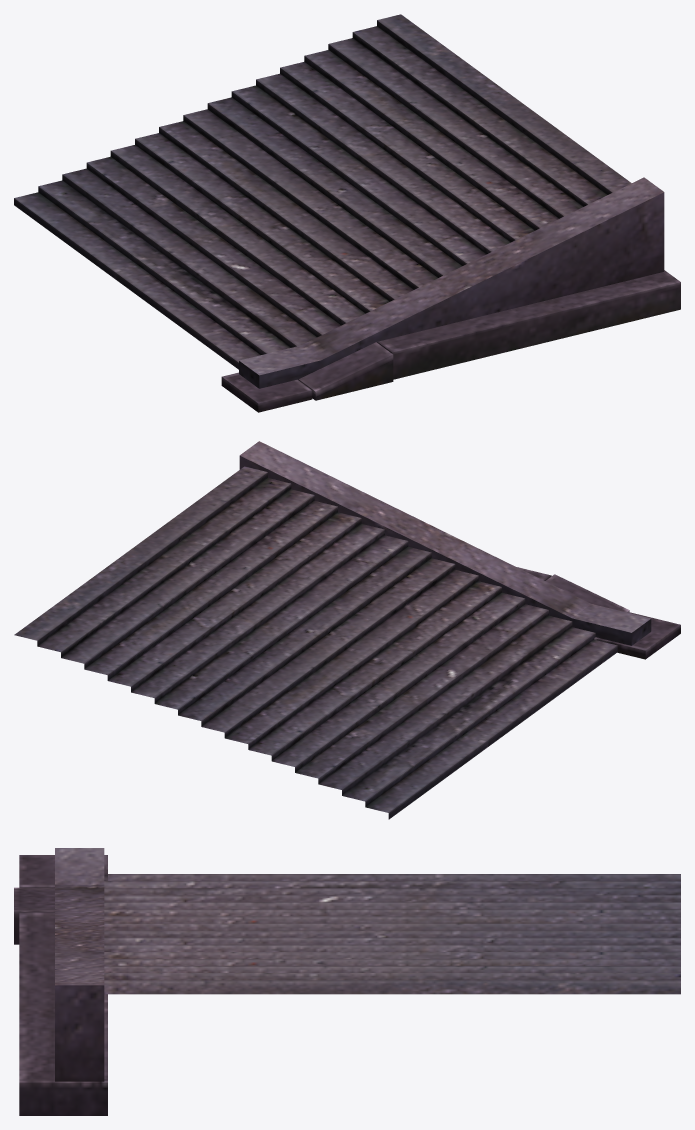
File: SM_zhucheng_taijie.FBX
3 views of the same model, one above another, from view 1: azimuth 30°, elevation 25°; view 2: azimuth 150°, elevation 25°; view 3: azimuth 270°, elevation 25° (orthographic). The views are drawn at different scales.
Parts seen in each view (by area): view 1: SM_zhucheng_taijie01, SM_zhucheng_taijie02; view 2: SM_zhucheng_taijie01, SM_zhucheng_taijie02; view 3: SM_zhucheng_taijie01, SM_zhucheng_taijie02.
Boxes of the visible parts, <box> form: SM_zhucheng_taijie01: <box>14,14,664,388</box>; SM_zhucheng_taijie02: <box>221,270,680,412</box>; SM_zhucheng_taijie01: <box>14,441,651,819</box>; SM_zhucheng_taijie02: <box>517,567,680,659</box>; SM_zhucheng_taijie01: <box>55,848,680,1081</box>; SM_zhucheng_taijie02: <box>14,855,107,1115</box>.
Bounding box in the file's own units: 808 × 196 × 912.
